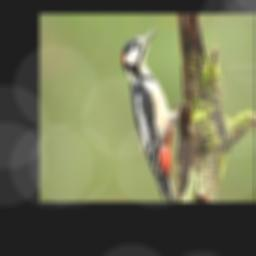Woodpecker: (122, 27, 193, 202)
